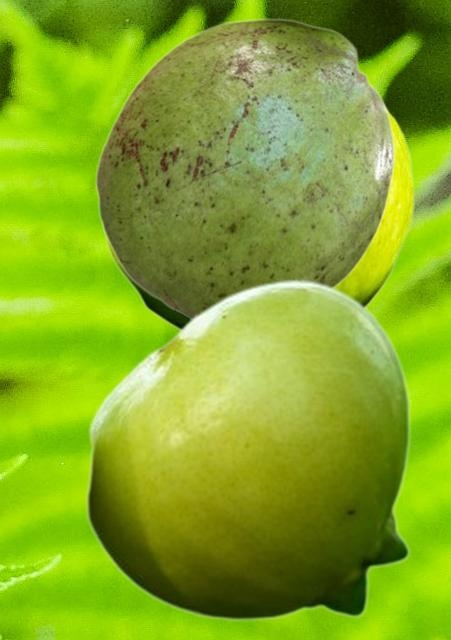guava: (84, 278, 411, 620), (94, 18, 394, 319), (100, 99, 413, 331)
